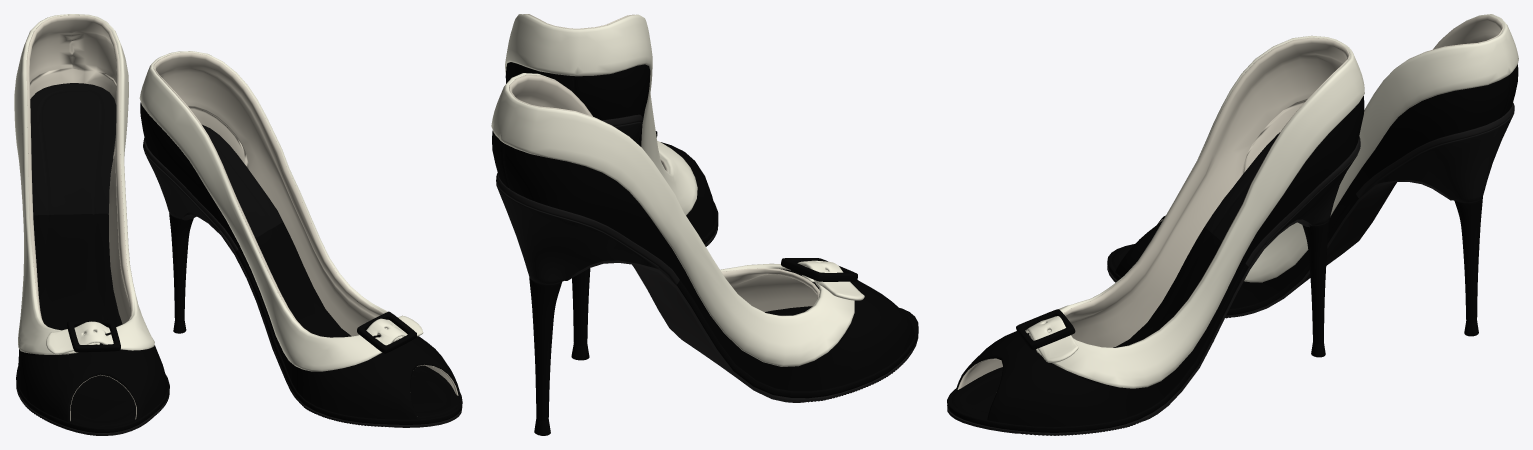
3 views of the same model, side by side, from view 1: azimuth 30°, elevation 25°; view 2: azimuth 150°, elevation 25°; view 3: azimuth 270°, elevation 25° (orthographic). The views are drawn at different scales.
Parts seen in each view (by area): view 1: HighHeel_L, HighHeel_R; view 2: HighHeel_R, HighHeel_L; view 3: HighHeel_L, HighHeel_R.
Part boxes in pixels (x1,y1,x2,y2): HighHeel_L: (139,51,462,427); HighHeel_R: (14,14,169,435); HighHeel_R: (491,73,918,435); HighHeel_L: (505,14,718,360); HighHeel_L: (947,35,1364,435); HighHeel_R: (1107,14,1518,336).
Bounding box in the file's own units: 19.84 × 14.74 × 25.18.
